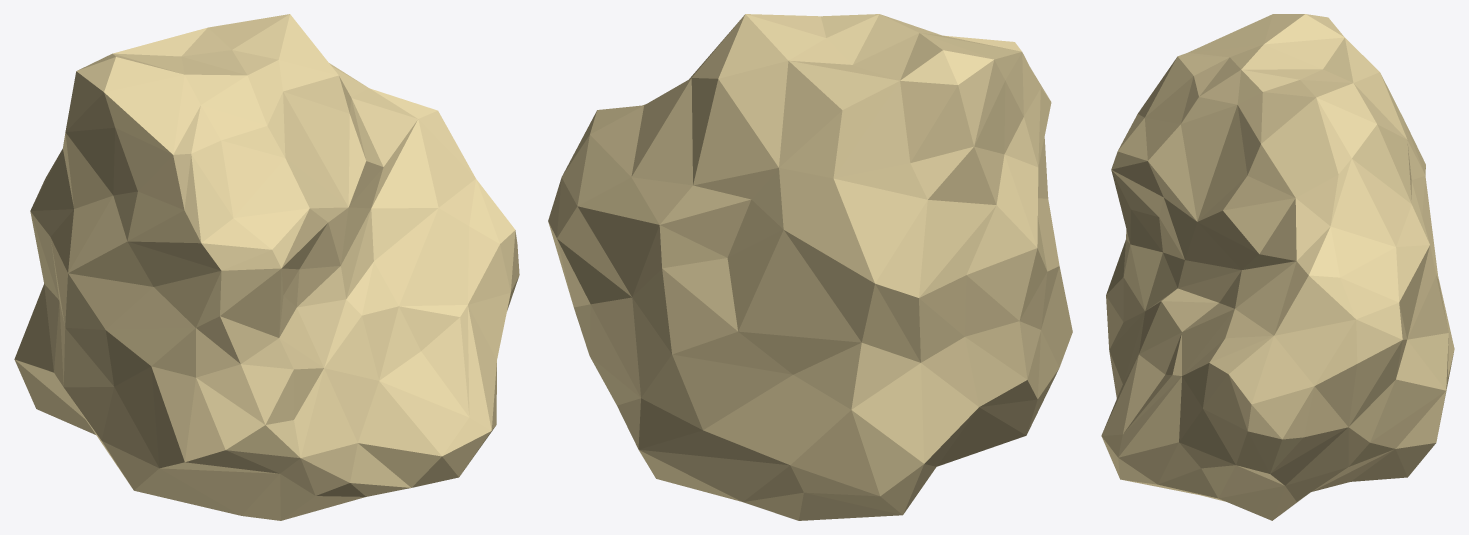
File: Asteroid (81).fbx
3 renders of one model, left to right at view 1: azimuth 30°, elevation 25°; view 2: azimuth 150°, elevation 25°; view 3: azimuth 270°, elevation 25°, orthographic. The views are drawn at different scales.
Visible parts, largest first — view 1: Asteroid197; view 2: Asteroid197; view 3: Asteroid197.
Part boxes in pixels (left/top/right/bottom): Asteroid197: left=14, top=14, right=519, bottom=520; Asteroid197: left=548, top=14, right=1072, bottom=520; Asteroid197: left=1101, top=14, right=1454, bottom=520.
Size of the model in its own units: 323 by 308 by 251.
